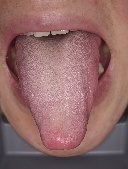tongue: (14, 40, 101, 151)
